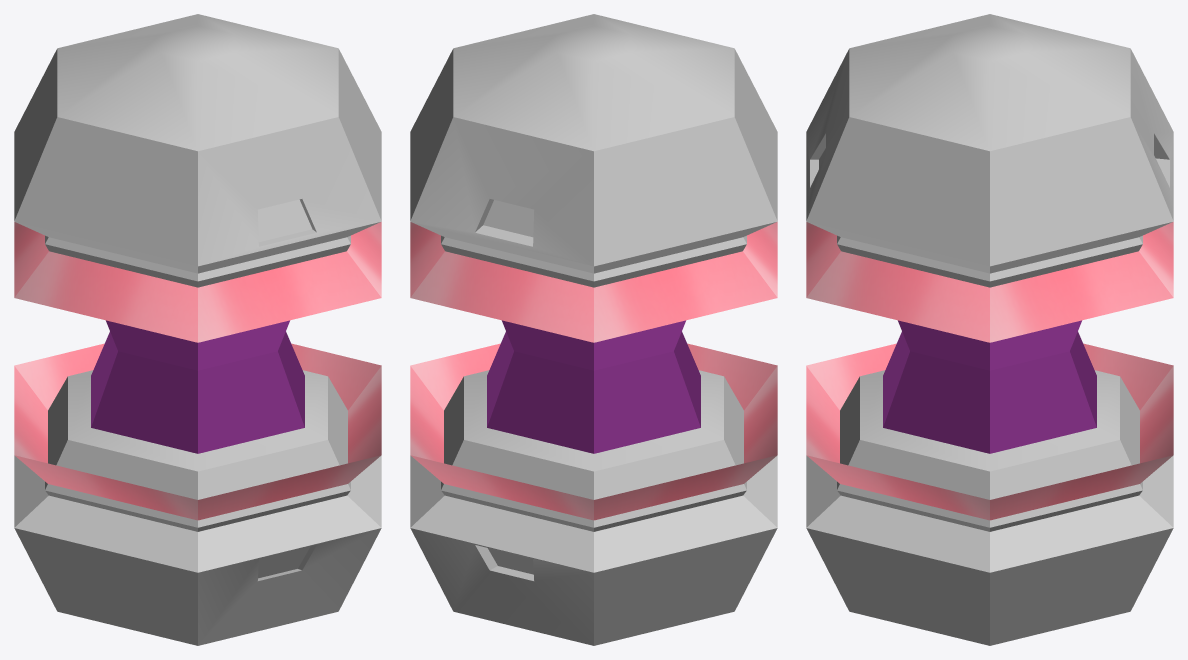
File: Museum_Deco_Lamp_01_Art.fbx
3 views of the same model, side by side, from view 1: azimuth 30°, elevation 25°; view 2: azimuth 150°, elevation 25°; view 3: azimuth 270°, elevation 25° (orthographic).
Parts seen in each view (by area): view 1: Museum_Deco_Lamp_01, Museum_Deco_Lamp_01_Fade; view 2: Museum_Deco_Lamp_01, Museum_Deco_Lamp_01_Fade; view 3: Museum_Deco_Lamp_01, Museum_Deco_Lamp_01_Fade.
Part boxes in pixels (x1=…): Museum_Deco_Lamp_01: x1=14, y1=14, x2=381, y2=645; Museum_Deco_Lamp_01_Fade: x1=14, y1=222, x2=381, y2=520; Museum_Deco_Lamp_01: x1=410, y1=14, x2=777, y2=645; Museum_Deco_Lamp_01_Fade: x1=410, y1=222, x2=777, y2=520; Museum_Deco_Lamp_01: x1=806, y1=14, x2=1173, y2=645; Museum_Deco_Lamp_01_Fade: x1=806, y1=222, x2=1173, y2=520.
Size of the model in its own units: 200 by 298 by 173.
